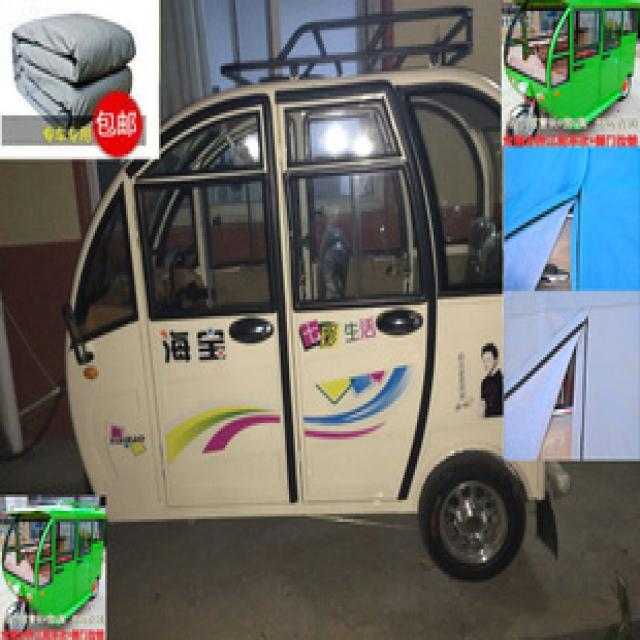tricycle: (56, 14, 557, 577), (500, 0, 638, 146), (0, 494, 101, 634)
